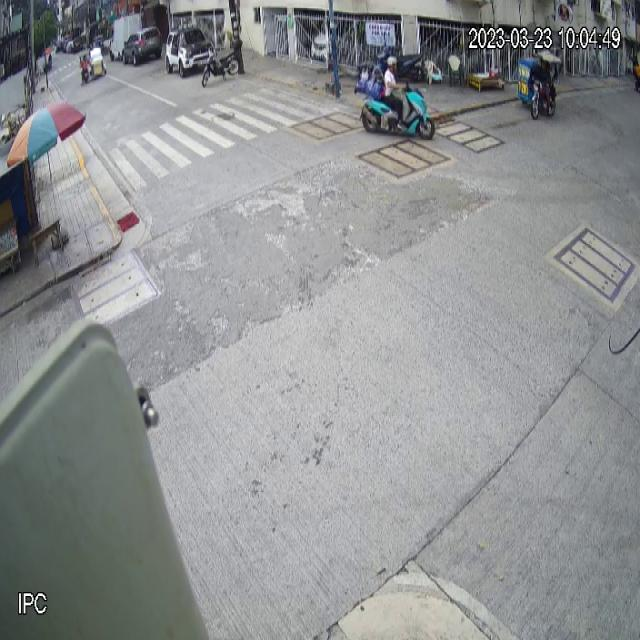Motorcycle: (360, 86, 437, 142)
Tricycle: (516, 49, 561, 121)
